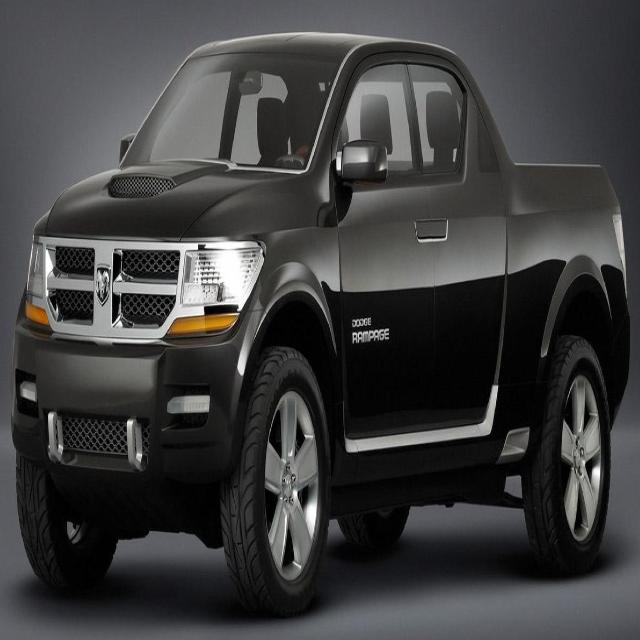CMT: (34, 30, 640, 601)
